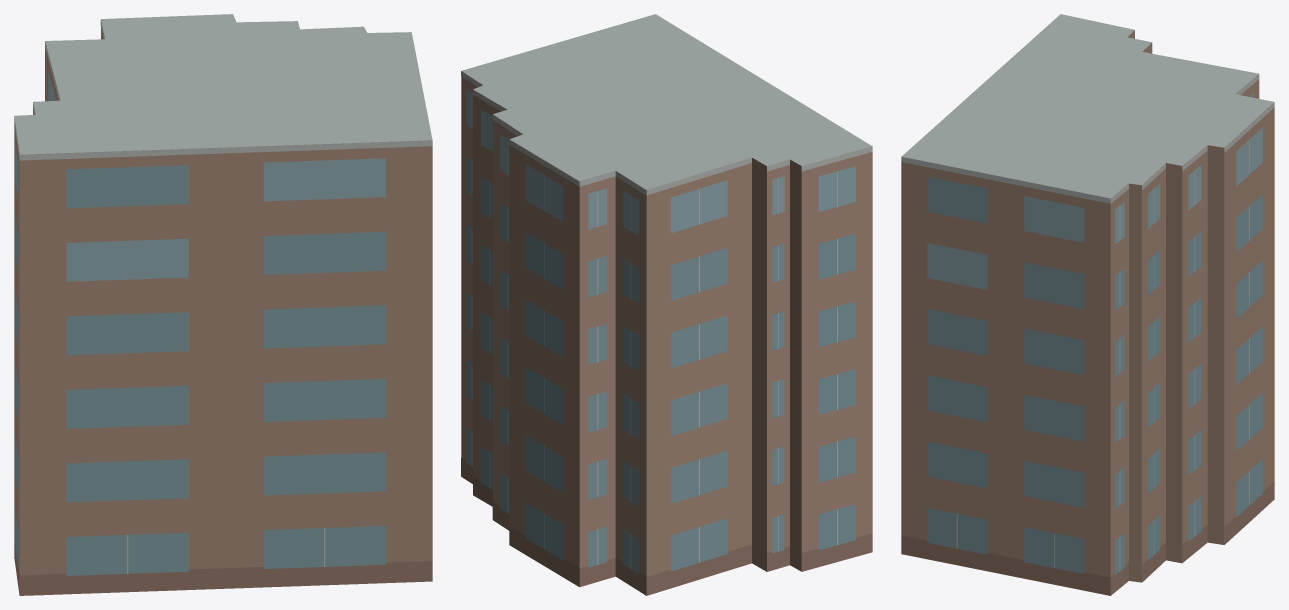
File: survey-upis-33010514.glb
The picture shows the model from 3 angles, left to right: view 1: azimuth 30°, elevation 25°; view 2: azimuth 150°, elevation 25°; view 3: azimuth 270°, elevation 25°; orthographic projection. The views are drawn at different scales.
Parts seen in each view (by area): view 1: survey-upis-33010514.tmp; view 2: survey-upis-33010514.tmp; view 3: survey-upis-33010514.tmp.
Part boxes in pixels (bbox=[...]): survey-upis-33010514.tmp: bbox=[14, 14, 432, 595]; survey-upis-33010514.tmp: bbox=[461, 14, 872, 595]; survey-upis-33010514.tmp: bbox=[901, 14, 1274, 595].
Size of the model in its own units: 18.23 by 18.3 by 15.59.
